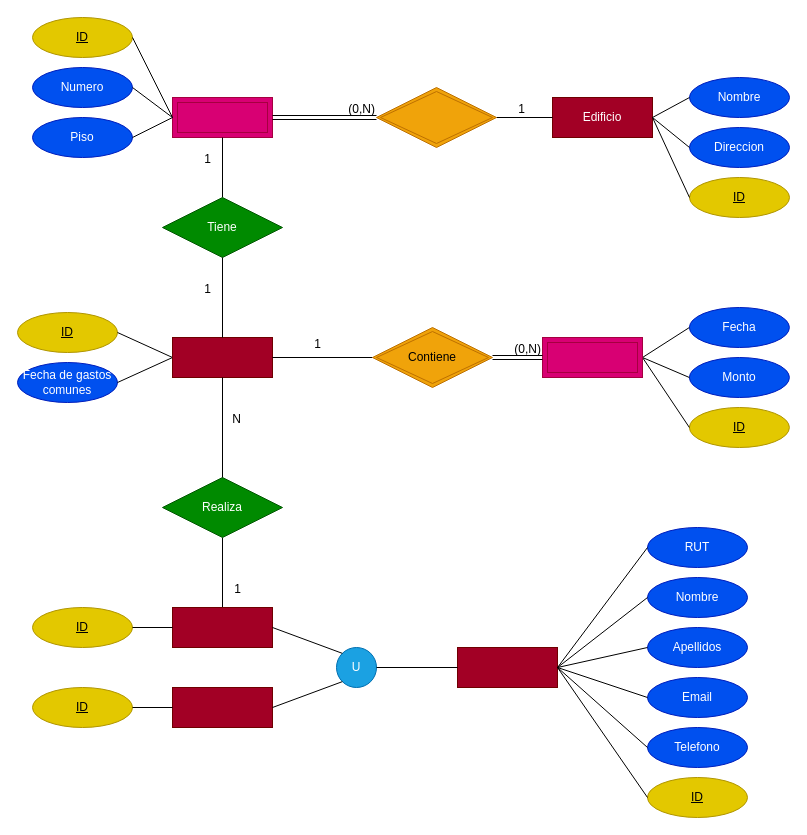
Image size: 807x835. Some labels were removed from this diagram. Here are the shapes that lost their labels. From the top down, the centre of each, then its label:
At point (222, 117): "Depto".
At point (436, 117): "Forma".
At point (222, 357): "Contrato".
At point (592, 357): "Pago".
At point (222, 627): "Dueño".
At point (507, 667): "persona".
At point (222, 707): "Arrendatario".
